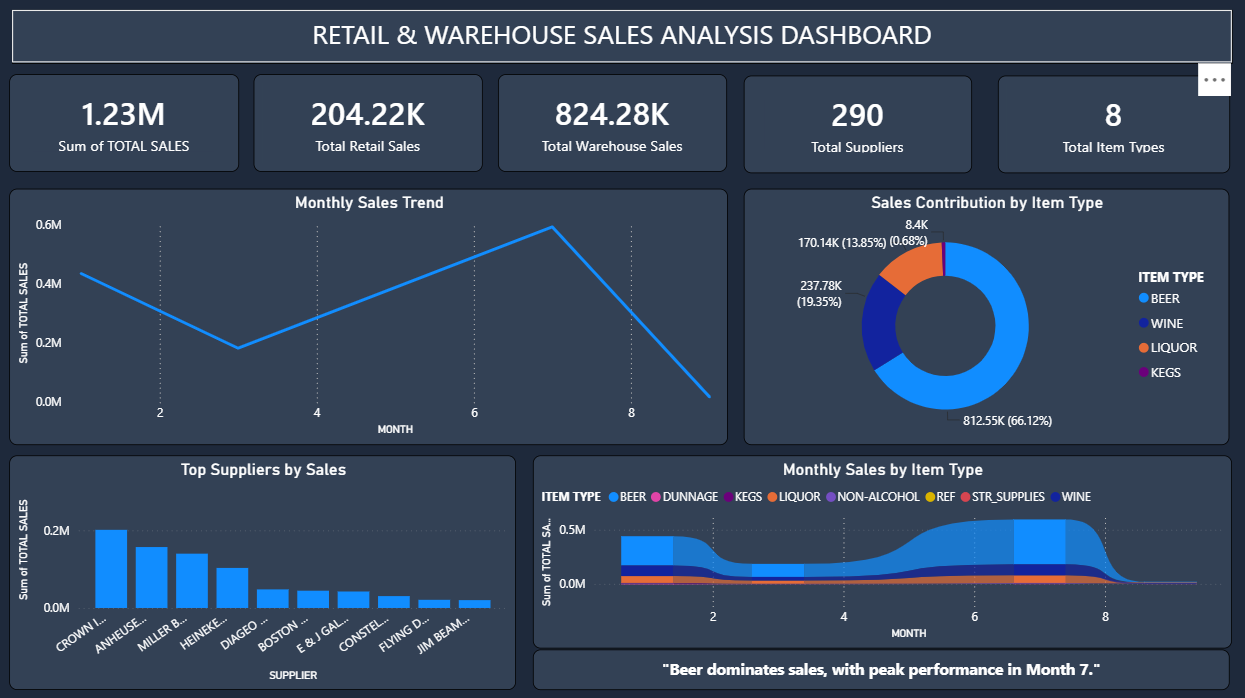

What the dashboard file says about the page in this screenshot:
{"tool":"powerbi","page":{"name":"Page 1","canvas":[1280,720],"ordinal":0},"visuals":[{"type":"cardVisual","fields":{"Data":["Sum(cleaned_retail_sales.TOTAL SALES)"]},"box":[12.3,79.6,235,100.2],"z":0},{"type":"cardVisual","fields":{"Data":["cleaned_retail_sales.Total Warehouse Sales"]},"box":[513.2,79.6,234.6,100.2],"z":1000},{"type":"cardVisual","fields":{"Data":["cleaned_retail_sales.Total Retail Sales"]},"box":[263.5,79.6,234.6,100.2],"z":2000},{"type":"cardVisual","fields":{"Data":["cleaned_retail_sales.Total Suppliers"]},"box":[764.3,81,233.3,100.2],"z":3000},{"type":"cardVisual","fields":{"Data":["cleaned_retail_sales.Total Item Types"]},"box":[1023.7,81,237.4,100.2],"z":4000},{"type":"lineChart","title":"Monthly Sales Trend","fields":{"Y":["Sum(cleaned_retail_sales.TOTAL SALES)"],"Category":["cleaned_retail_sales.MONTH"]},"box":[12.3,197.6,735.5,262.1],"z":5000},{"type":"donutChart","title":"Sales Contribution by Item Type","fields":{"Category":["cleaned_retail_sales.ITEM TYPE"],"Y":["Sum(cleaned_retail_sales.TOTAL SALES)"]},"box":[764.3,197.6,496.7,262.1],"z":6000},{"type":"clusteredColumnChart","title":"Top Suppliers by Sales","fields":{"Category":["cleaned_retail_sales.SUPPLIER"],"Y":["Sum(cleaned_retail_sales.TOTAL SALES)"]},"box":[12.3,470.7,518.7,240.1],"z":7000},{"type":"textbox","box":[15.1,13.7,1248.7,54.9],"z":8000},{"type":"ribbonChart","title":"Monthly Sales by Item Type","fields":{"Category":["cleaned_retail_sales.MONTH"],"Series":["cleaned_retail_sales.ITEM TYPE"],"Y":["Sum(cleaned_retail_sales.TOTAL SALES)"]},"box":[548.9,470.7,714.9,197.6],"z":9000},{"type":"textbox","box":[548.6,668.6,712.9,41.4],"z":10000}]}

Visuals, with their boxes in screenshot pixels (x1, y1, x2, y2), scaled from the page's 1280x720 canvas onto the 1245x698 screenshot:
cardVisual - Sum(cleaned_retail_sales.TOTAL SALES): <region>12, 77, 241, 174</region>
cardVisual - cleaned_retail_sales.Total Warehouse Sales: <region>499, 77, 727, 174</region>
cardVisual - cleaned_retail_sales.Total Retail Sales: <region>256, 77, 484, 174</region>
cardVisual - cleaned_retail_sales.Total Suppliers: <region>743, 79, 970, 176</region>
cardVisual - cleaned_retail_sales.Total Item Types: <region>996, 79, 1227, 176</region>
"Monthly Sales Trend" lineChart: <region>12, 192, 727, 446</region>
"Sales Contribution by Item Type" donutChart: <region>743, 192, 1227, 446</region>
"Top Suppliers by Sales" clusteredColumnChart: <region>12, 456, 516, 689</region>
textbox: <region>15, 13, 1229, 67</region>
"Monthly Sales by Item Type" ribbonChart: <region>534, 456, 1229, 648</region>
textbox: <region>534, 648, 1227, 688</region>
